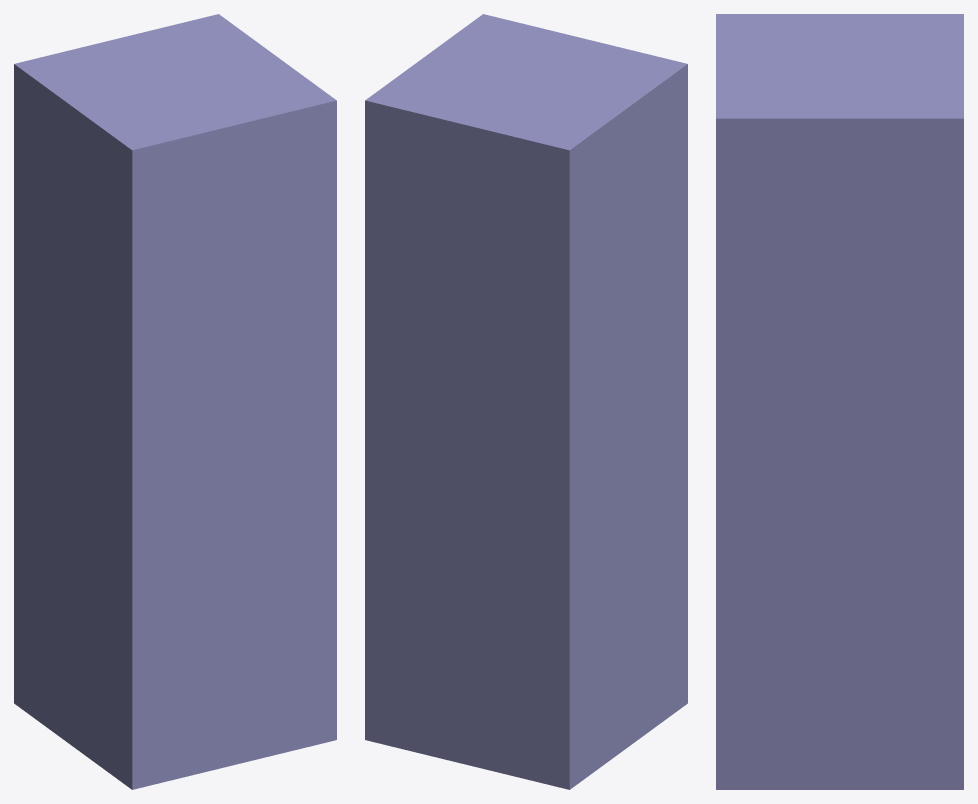
Rendered from unitele2.obj.
3 views of the same model, side by side, from view 1: azimuth 30°, elevation 25°; view 2: azimuth 150°, elevation 25°; view 3: azimuth 270°, elevation 25° (orthographic). The views are drawn at different scales.
Parts seen in each view (by area): view 1: SmallStorage_UnitElevator2; view 2: SmallStorage_UnitElevator2; view 3: SmallStorage_UnitElevator2.
Boxes of the visible parts, box(x1,y1,x2,y2) form: SmallStorage_UnitElevator2: box(14, 14, 336, 789); SmallStorage_UnitElevator2: box(365, 14, 687, 789); SmallStorage_UnitElevator2: box(716, 14, 963, 789).
Bounding box in the file's own units: 2 × 5.97 × 2.
